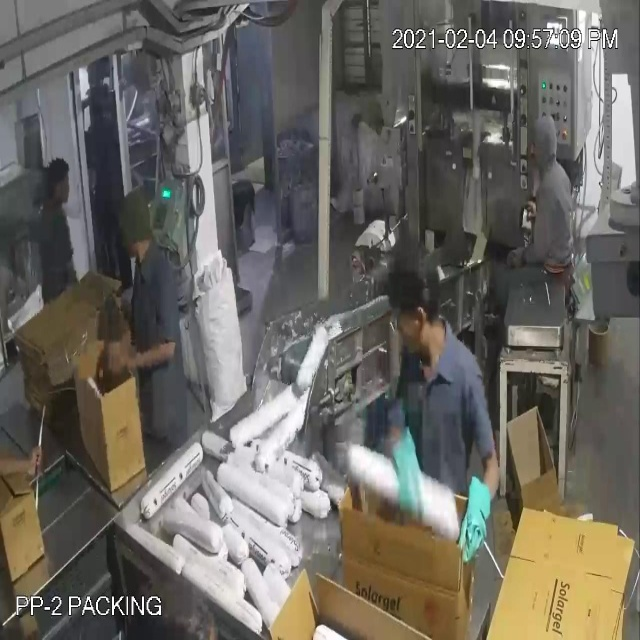Guantes: (458, 448, 512, 574), (386, 410, 428, 519)
Sin_guantes: (99, 330, 176, 380), (1, 430, 52, 505)
